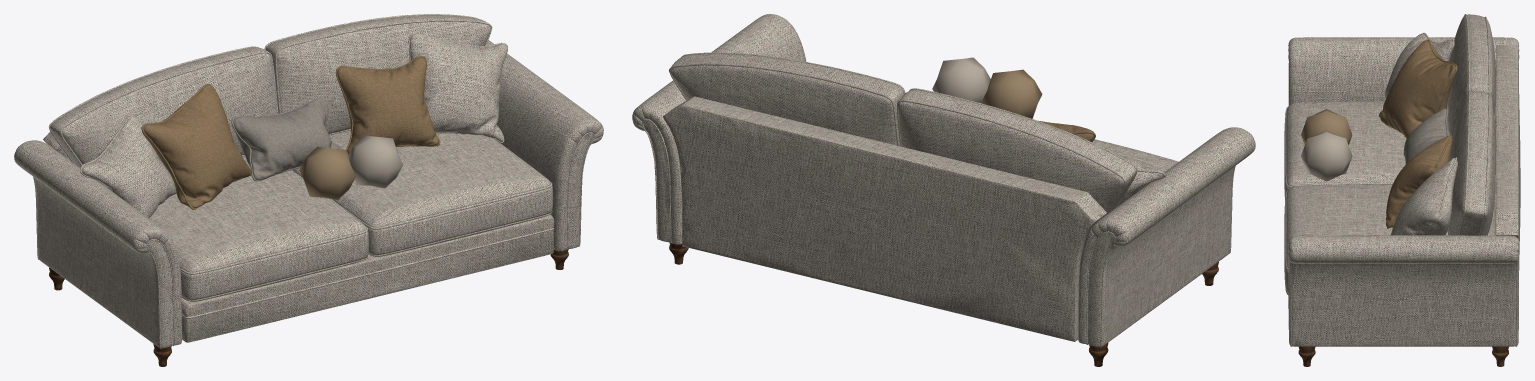
The model's file is bella-3d-rolled-arm-sofa.glb.
The picture shows the model from 3 angles, left to right: view 1: azimuth 30°, elevation 25°; view 2: azimuth 150°, elevation 25°; view 3: azimuth 270°, elevation 25°; orthographic projection. The views are drawn at different scales.
Visible parts, largest first — view 1: classic-sofa-part-5, classic-sofa-part-4, classic-sofa-part-7, classic-sofa-part-1, classic-sofa-part-2, classic-sofa-part-3; view 2: classic-sofa-part-5, classic-sofa-part-1, classic-sofa-part-2, classic-sofa-part-3; view 3: classic-sofa-part-5, classic-sofa-part-4, classic-sofa-part-2, classic-sofa-part-7, classic-sofa-part-1, classic-sofa-part-3.
Part boxes in pixels (x1,y1,x2,y2): classic-sofa-part-5: (14, 14, 603, 348); classic-sofa-part-4: (141, 56, 440, 209); classic-sofa-part-7: (231, 98, 343, 181); classic-sofa-part-1: (299, 146, 356, 199); classic-sofa-part-2: (348, 135, 403, 188); classic-sofa-part-3: (49, 249, 568, 366); classic-sofa-part-5: (632, 14, 1255, 347); classic-sofa-part-1: (982, 69, 1042, 118); classic-sofa-part-2: (932, 57, 990, 103); classic-sofa-part-3: (669, 242, 1218, 366); classic-sofa-part-5: (1284, 14, 1520, 346); classic-sofa-part-4: (1379, 39, 1457, 228); classic-sofa-part-2: (1301, 130, 1352, 181); classic-sofa-part-7: (1403, 108, 1450, 164); classic-sofa-part-1: (1301, 109, 1352, 144); classic-sofa-part-3: (1298, 346, 1508, 366).
Bounding box in the file's own units: 2.33 × 0.9626 × 1.09.
6 materials, 6 textured.
